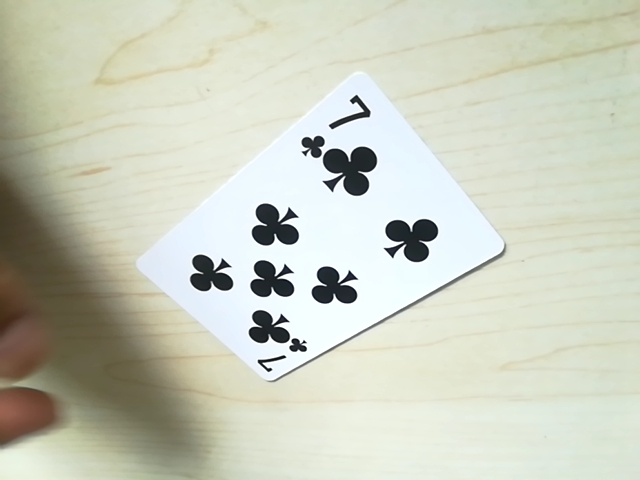mh 7: (302, 86, 374, 150), (246, 329, 308, 378)
